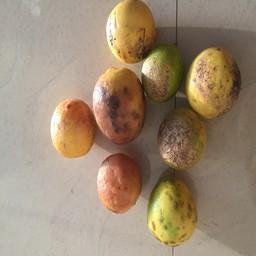Bad_lime: (92, 68, 147, 146), (187, 45, 241, 117), (147, 176, 198, 249), (153, 108, 208, 169), (106, 0, 156, 64), (95, 151, 144, 216), (52, 94, 95, 161)
